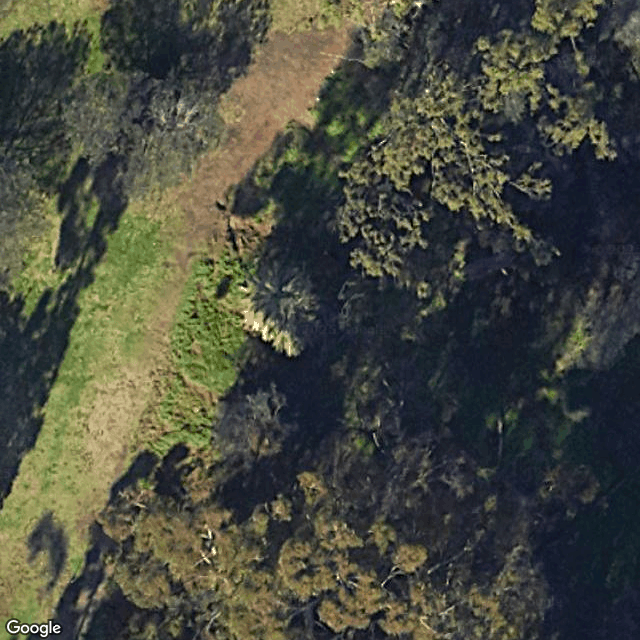palm: (237, 253, 331, 364)
